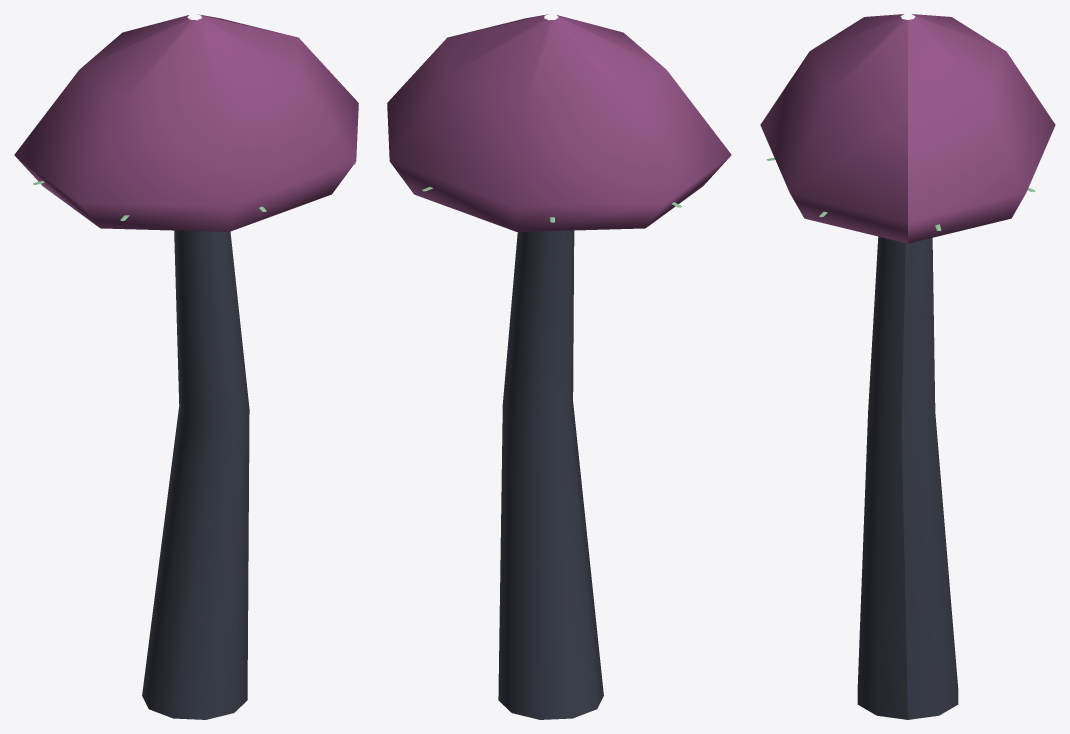
File: prop_1_1.glb
3 renders of one model, left to right at view 1: azimuth 30°, elevation 25°; view 2: azimuth 150°, elevation 25°; view 3: azimuth 270°, elevation 25°, orthographic.
Parts seen in each view (by area): view 1: FungalCap, FungalStem; view 2: FungalCap, FungalStem; view 3: FungalCap, FungalStem.
Boxes of the visible parts, left/top/right/bottom form: FungalCap: left=14, top=14, right=358, bottom=231; FungalStem: left=142, top=230, right=249, bottom=719; FungalCap: left=387, top=14, right=731, bottom=231; FungalStem: left=498, top=230, right=603, bottom=719; FungalCap: left=760, top=14, right=1055, bottom=243; FungalStem: left=857, top=236, right=958, bottom=719.
Bounding box in the file's own units: 2.85 × 5.95 × 2.34.
